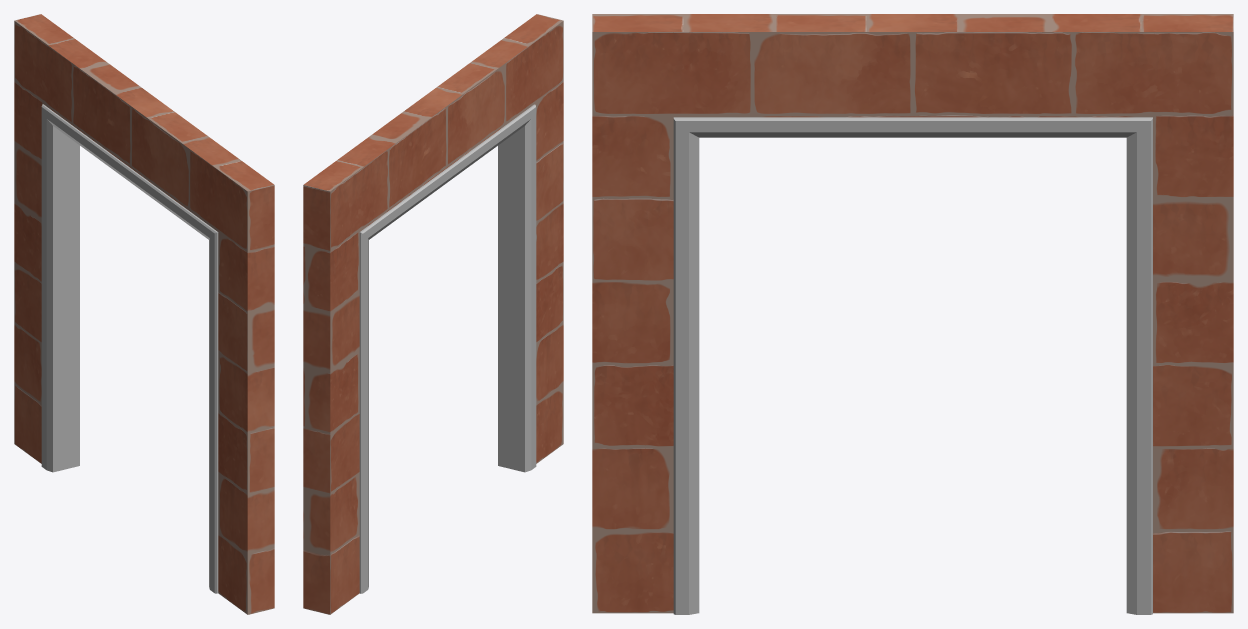
Rendered from door_tile.glb.
3 views of the same model, side by side, from view 1: azimuth 30°, elevation 25°; view 2: azimuth 150°, elevation 25°; view 3: azimuth 270°, elevation 25° (orthographic). The views are drawn at different scales.
Parts seen in each view (by area): view 1: Cube; view 2: Cube; view 3: Cube.
Part boxes in pixels (left/top/right/bottom): Cube: left=14, top=14, right=274, bottom=614; Cube: left=303, top=14, right=563, bottom=614; Cube: left=592, top=14, right=1233, bottom=614.
Size of the model in its own units: 0.24 by 3 by 3.
2 materials, 1 textured.
